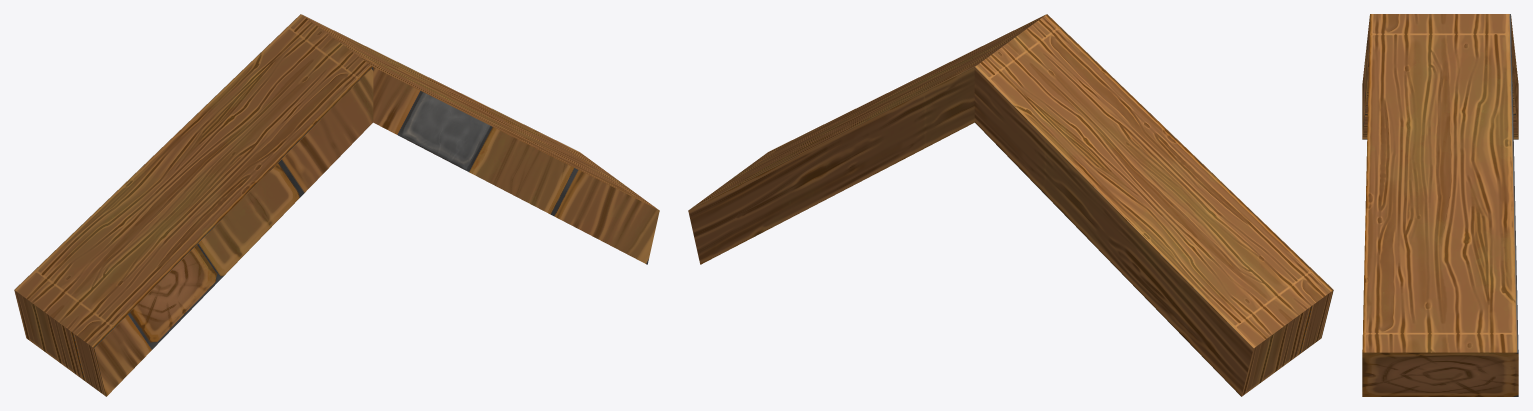
The picture shows the model from 3 angles, left to right: view 1: azimuth 30°, elevation 25°; view 2: azimuth 150°, elevation 25°; view 3: azimuth 270°, elevation 25°; orthographic projection. The views are drawn at different scales.
Parts seen in each view (by area): view 1: Cube.1523; view 2: Cube.1523; view 3: Cube.1523.
Part boxes in pixels (bbox=[...]): Cube.1523: bbox=[14, 14, 659, 396]; Cube.1523: bbox=[688, 14, 1333, 396]; Cube.1523: bbox=[1362, 14, 1518, 396].
Size of the model in its own units: 339 by 150 by 83.32.
Materials: 1 (1 with a texture image).
